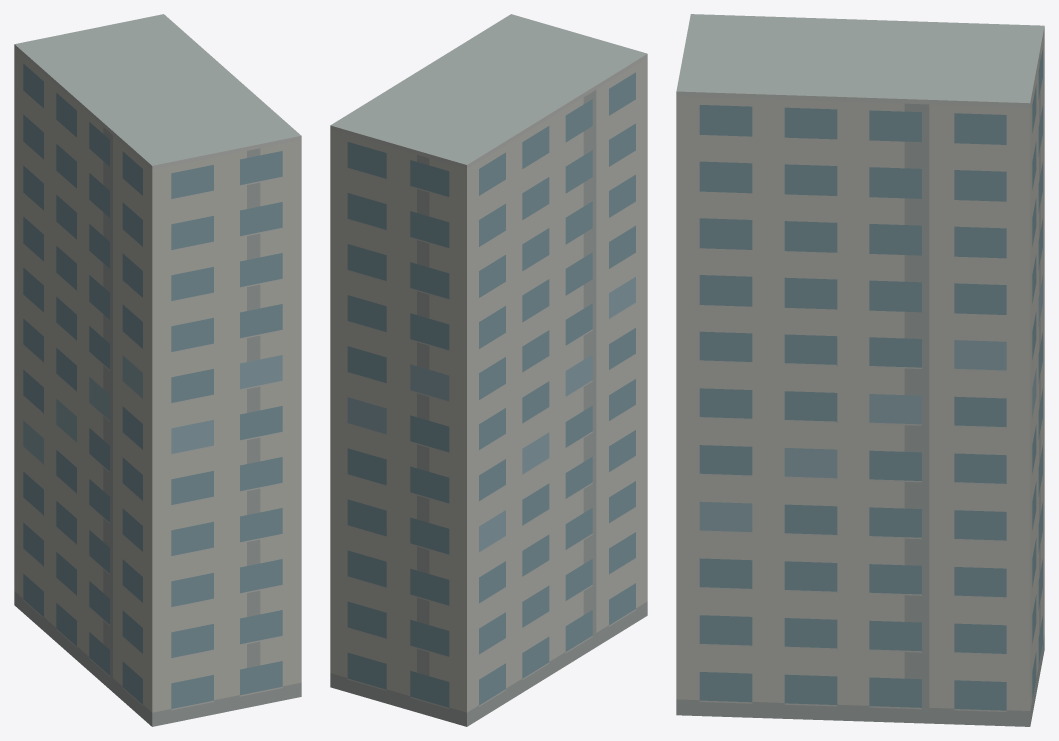
Rendered from residential-c43e3e74-4366-43c4-8daa-7b3f61e44947.glb.
3 renders of one model, left to right at view 1: azimuth 30°, elevation 25°; view 2: azimuth 150°, elevation 25°; view 3: azimuth 270°, elevation 25°, orthographic. The views are drawn at different scales.
Parts seen in each view (by area): view 1: residential-c43e3e74-4366-43c4-8daa-7b3f61e44947.tmp; view 2: residential-c43e3e74-4366-43c4-8daa-7b3f61e44947.tmp; view 3: residential-c43e3e74-4366-43c4-8daa-7b3f61e44947.tmp.
Part boxes in pixels (left/top/right/bottom): residential-c43e3e74-4366-43c4-8daa-7b3f61e44947.tmp: left=14, top=14, right=301, bottom=726; residential-c43e3e74-4366-43c4-8daa-7b3f61e44947.tmp: left=330, top=14, right=647, bottom=726; residential-c43e3e74-4366-43c4-8daa-7b3f61e44947.tmp: left=676, top=14, right=1044, bottom=726.
Bounding box in the file's own units: 10.13 × 33 × 17.67.
